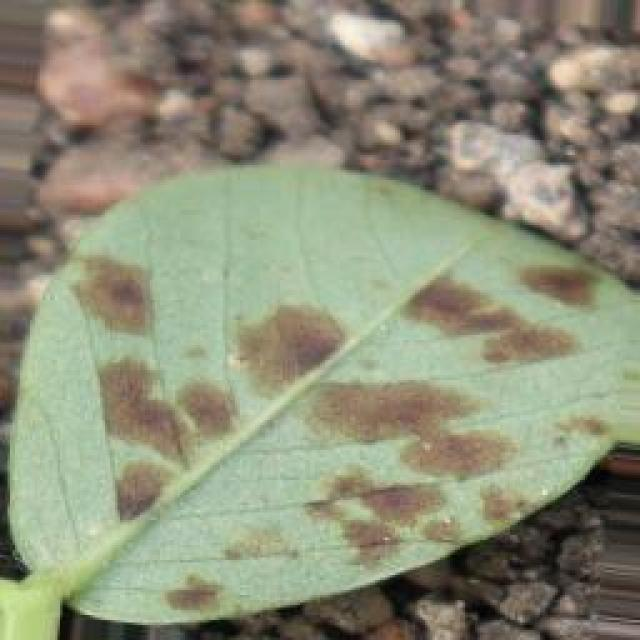Whitefly: (15, 132, 640, 612)
